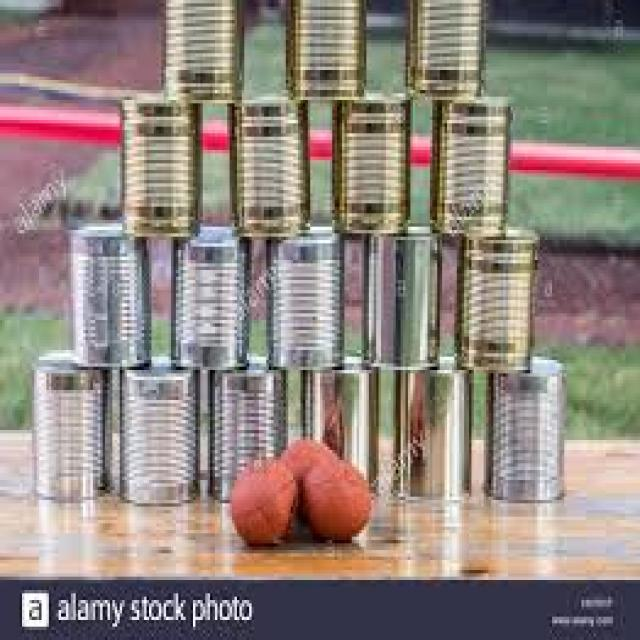metal: (425, 87, 508, 237), (484, 347, 564, 500), (452, 227, 532, 373), (66, 223, 147, 367), (117, 93, 198, 230), (29, 360, 110, 497), (266, 223, 342, 367), (393, 353, 467, 497), (362, 227, 440, 363), (330, 87, 405, 227), (117, 363, 193, 500), (168, 227, 242, 363), (301, 360, 376, 493), (230, 93, 303, 227), (401, 0, 481, 97), (162, 0, 240, 97), (283, 0, 364, 90)
